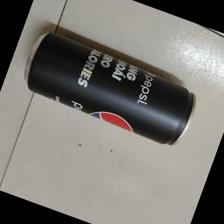Pepsi: (23, 31, 199, 148)
